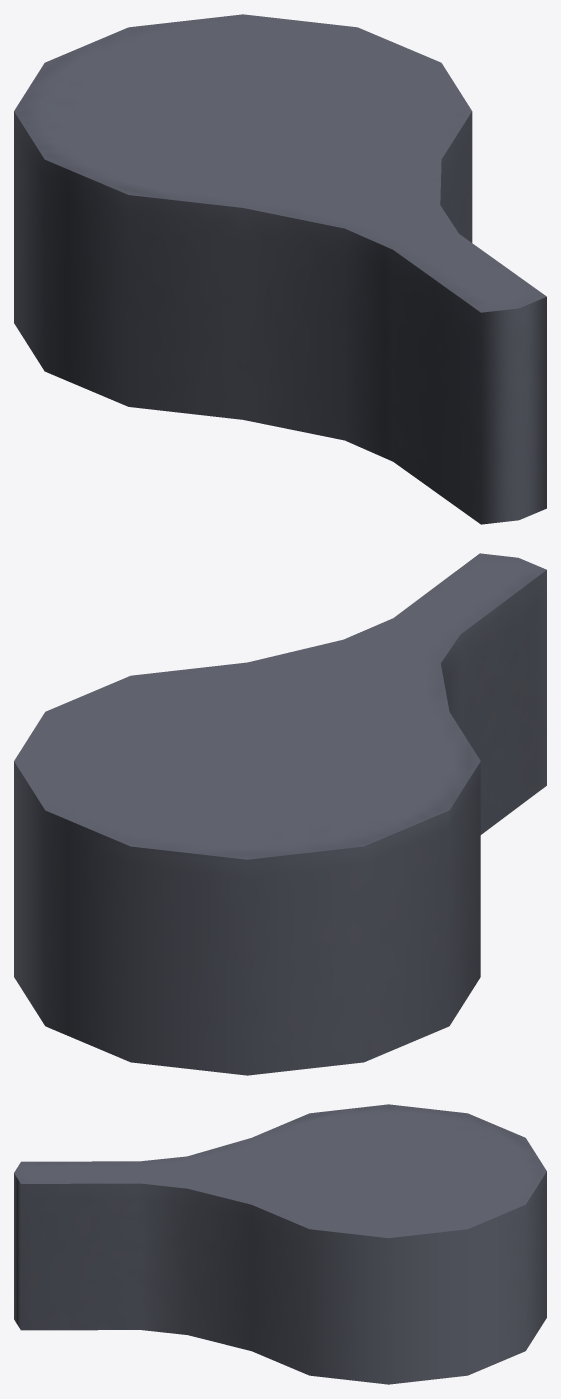
Rendered from Switch 4.fbx.
3 renders of one model, top to bottom at view 1: azimuth 30°, elevation 25°; view 2: azimuth 150°, elevation 25°; view 3: azimuth 270°, elevation 25°, orthographic. The views are drawn at different scales.
Parts seen in each view (by area): view 1: Switch_4; view 2: Switch_4; view 3: Switch_4.
Part boxes in pixels (x1,y1,x2,y2): Switch_4: (14,14,546,524); Switch_4: (14,553,546,1075); Switch_4: (14,1104,546,1384).
Size of the model in its own units: 1.26 by 0.6432 by 2.12.
